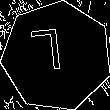L_S: (39, 30, 74, 83)
